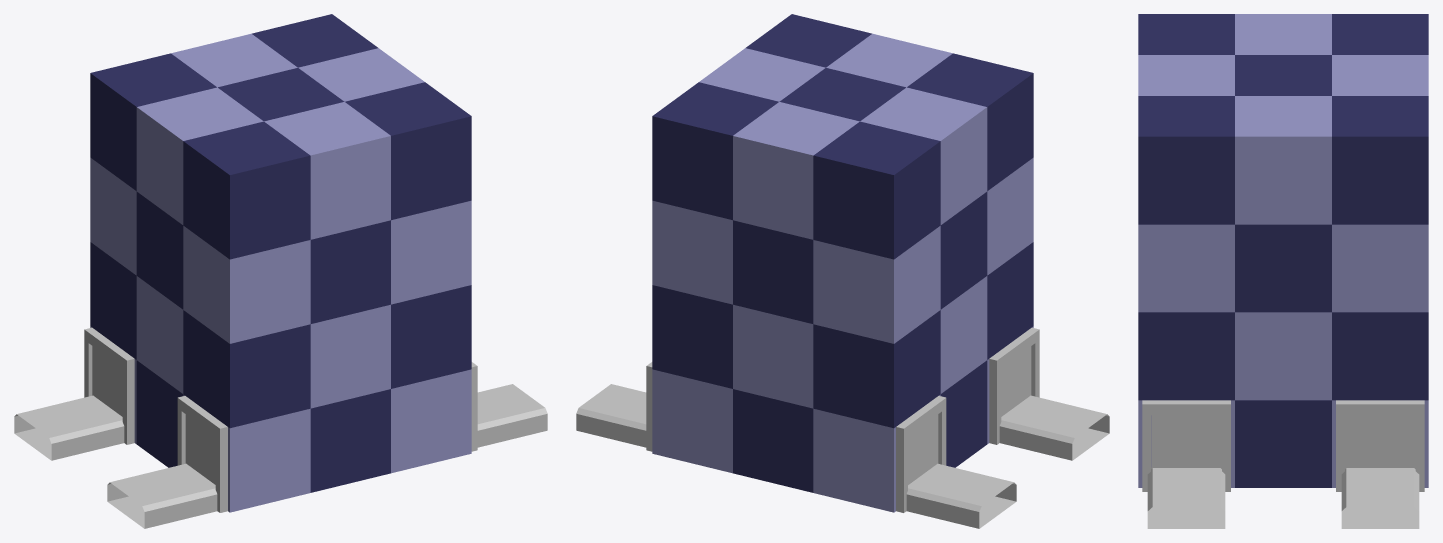
The model's file is SmallStorage_StorageUnitSmall.obj.
3 renders of one model, left to right at view 1: azimuth 30°, elevation 25°; view 2: azimuth 150°, elevation 25°; view 3: azimuth 270°, elevation 25°, orthographic. The views are drawn at different scales.
Size of the model in its own units: 10 by 8 by 6.
